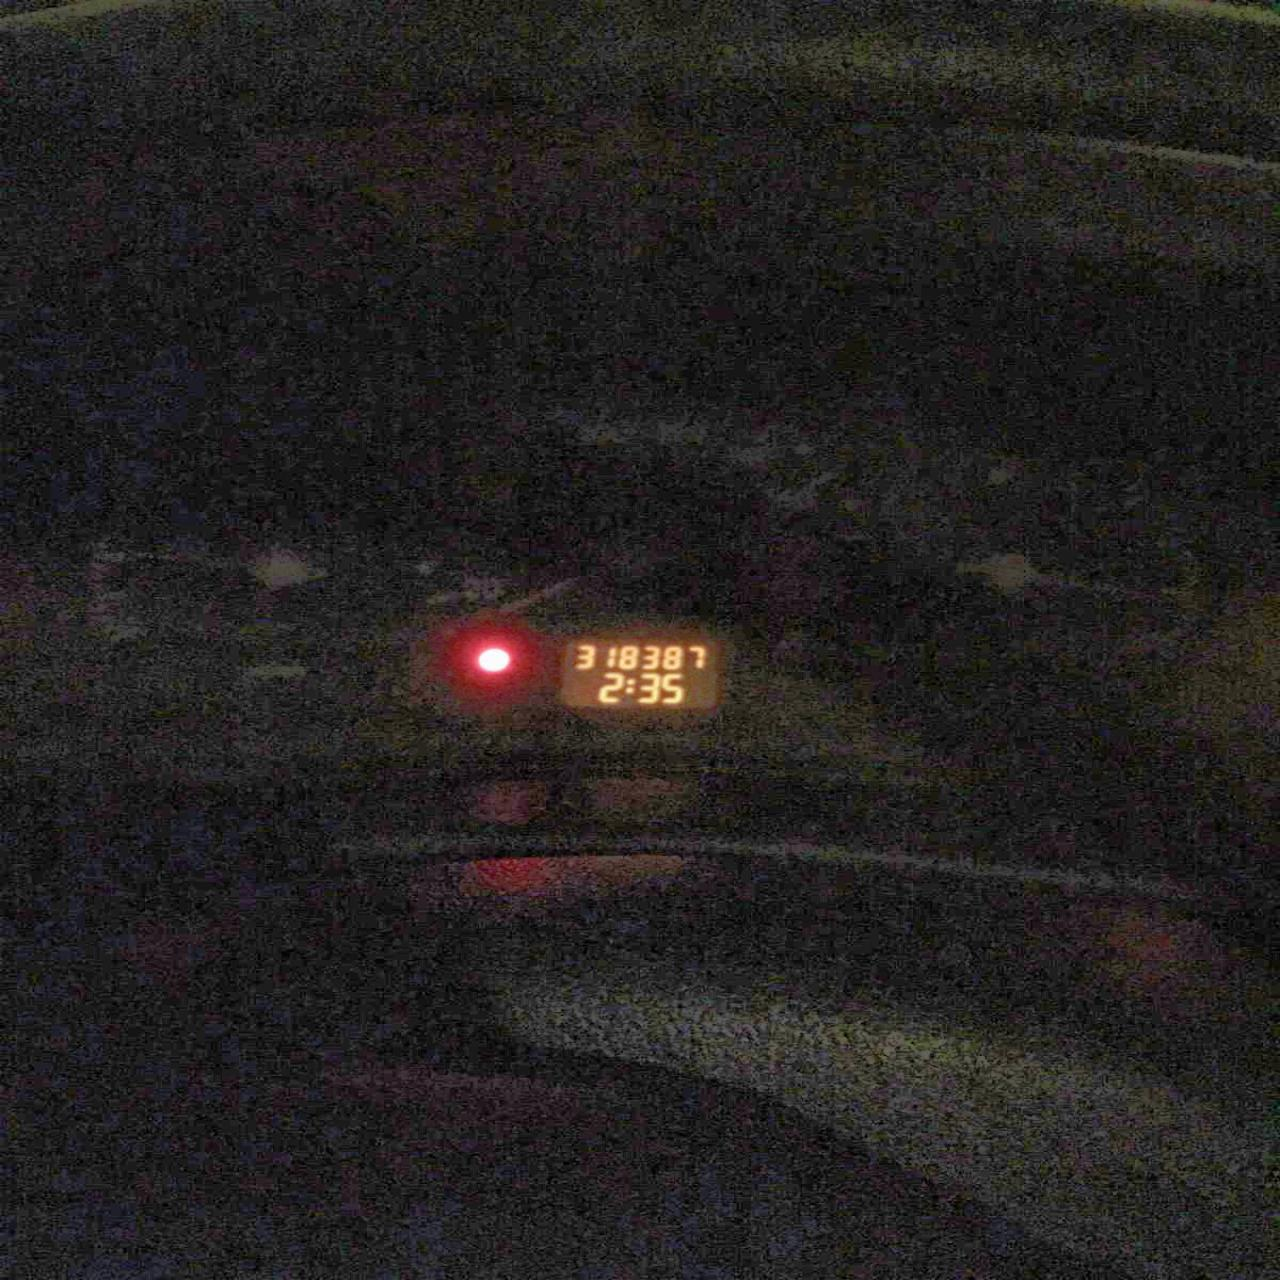1: (605, 646, 617, 668)
2: (597, 670, 624, 703)
3: (636, 672, 659, 703), (572, 644, 598, 670), (640, 645, 660, 669)
5: (660, 673, 685, 704)
7: (687, 645, 707, 669)
8: (660, 645, 683, 669), (618, 645, 639, 669)
X: (625, 676, 635, 694)
odometer: (558, 634, 722, 712)
